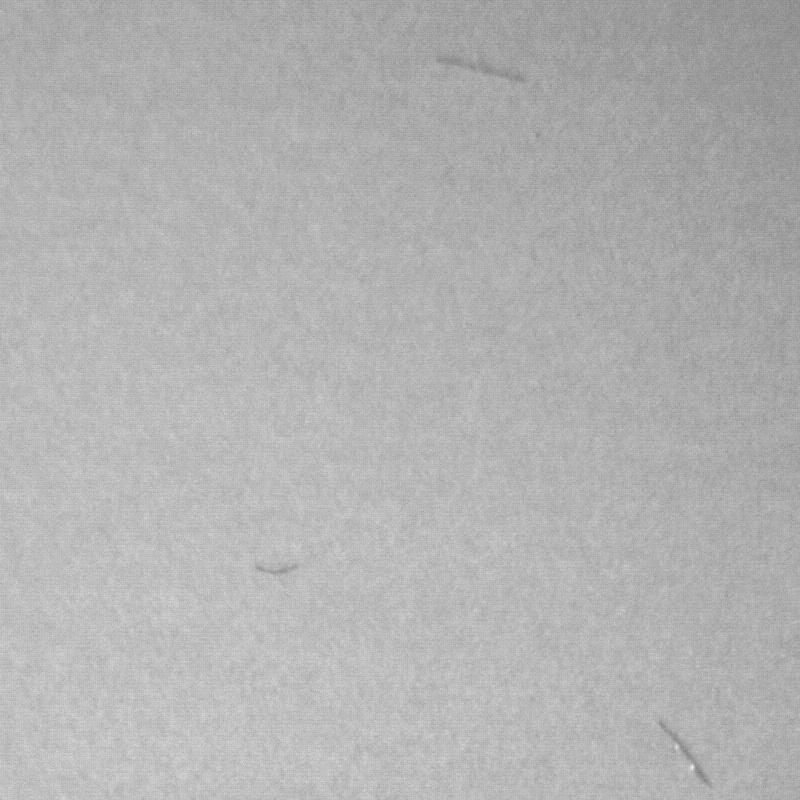defect: (661, 725, 715, 788), (440, 57, 538, 87), (253, 561, 295, 577)
